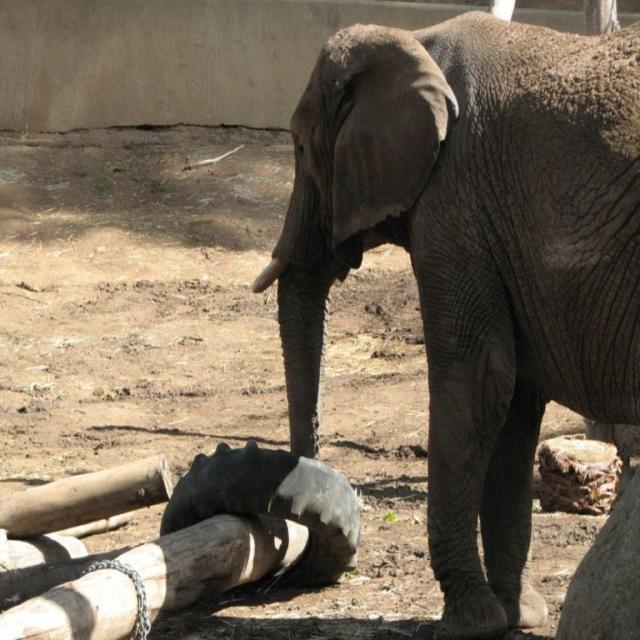Elephant: (250, 7, 639, 638)
